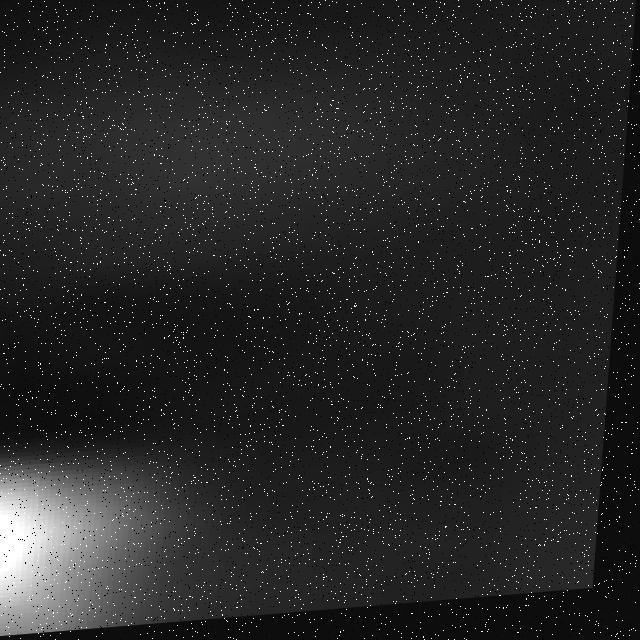person: (1, 428, 225, 640)
